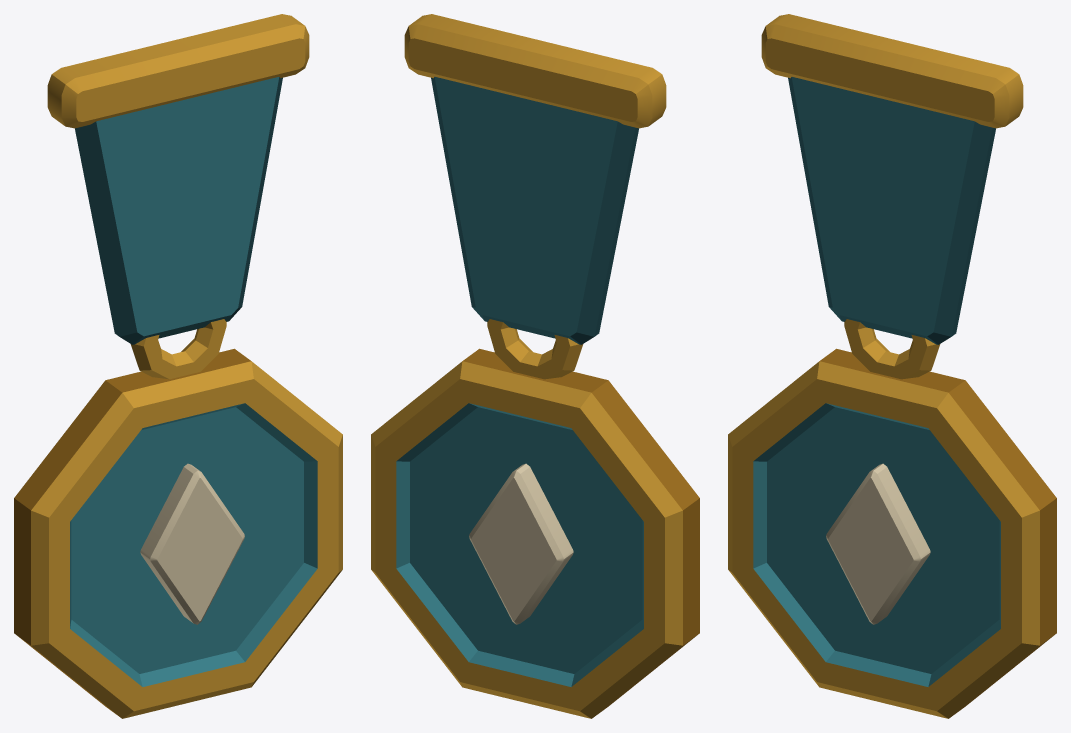
Rendered from Medal_01.glb.
3 views of the same model, side by side, from view 1: azimuth 30°, elevation 25°; view 2: azimuth 150°, elevation 25°; view 3: azimuth 330°, elevation 25° (orthographic).
Visible parts, largest first — view 1: Medal_01; view 2: Medal_01; view 3: Medal_01.
Part boxes in pixels (x1,y1,x2,y2): Medal_01: [14, 14, 342, 718]; Medal_01: [371, 14, 699, 718]; Medal_01: [728, 14, 1056, 718].
Size of the model in its own units: 1.17 by 2.33 by 0.28.
